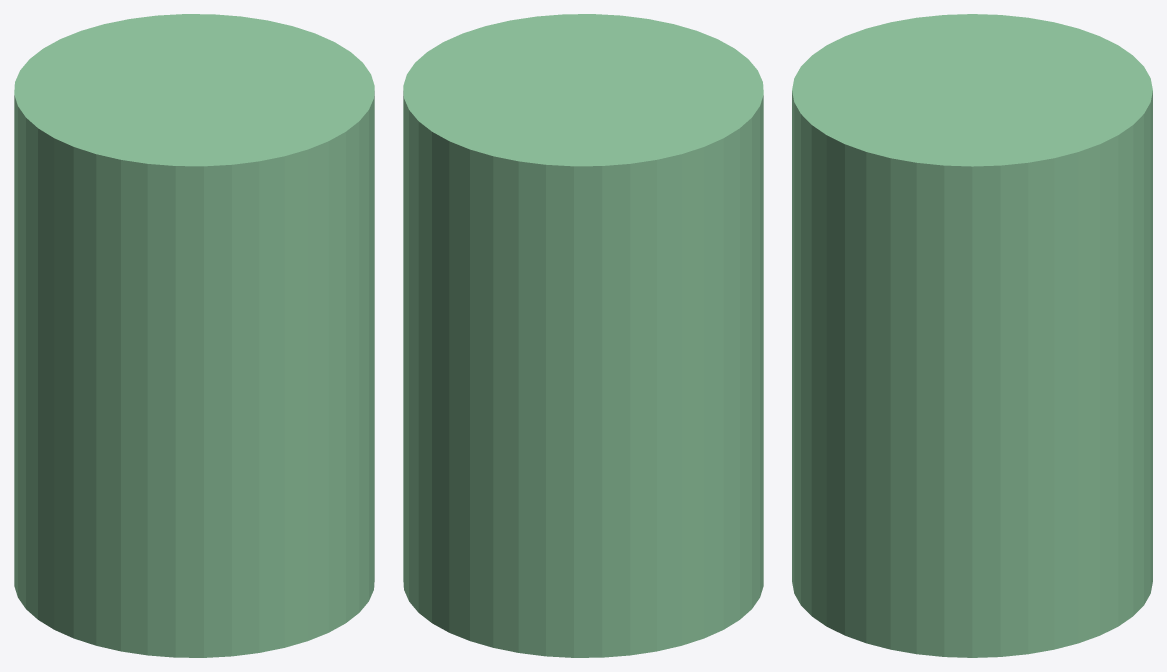
Rendered from rec_glass_jar_0063.glb.
The picture shows the model from 3 angles, left to right: view 1: azimuth 30°, elevation 25°; view 2: azimuth 150°, elevation 25°; view 3: azimuth 270°, elevation 25°; orthographic projection.
Parts seen in each view (by area): view 1: z-up-to-y-up; view 2: z-up-to-y-up; view 3: z-up-to-y-up.
Boxes of the visible parts, x1,y1,x2,y2 form: z-up-to-y-up: (14,14,374,657); z-up-to-y-up: (403,14,763,657); z-up-to-y-up: (792,14,1152,657).
Size of the model in its own units: 0.0698 by 0.1048 by 0.0698.
